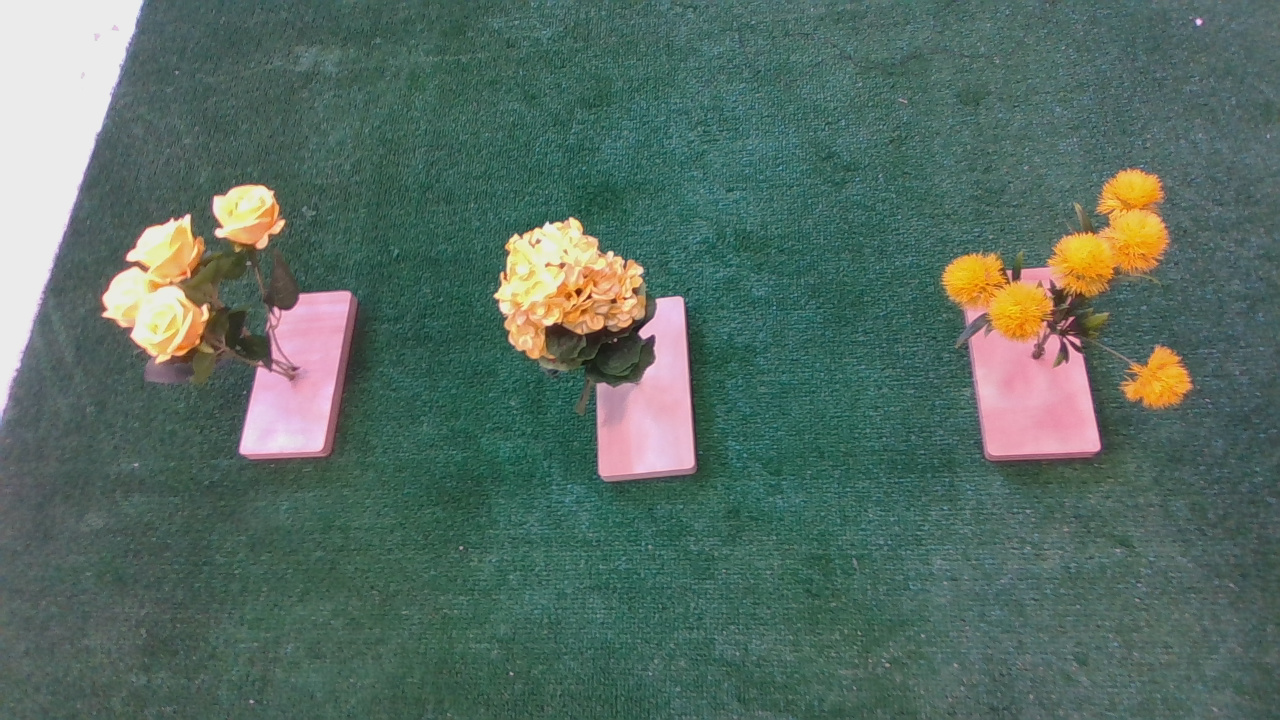dandelion: (926, 166, 1207, 417)
geranium: (466, 203, 667, 393)
rose: (99, 180, 319, 406)
